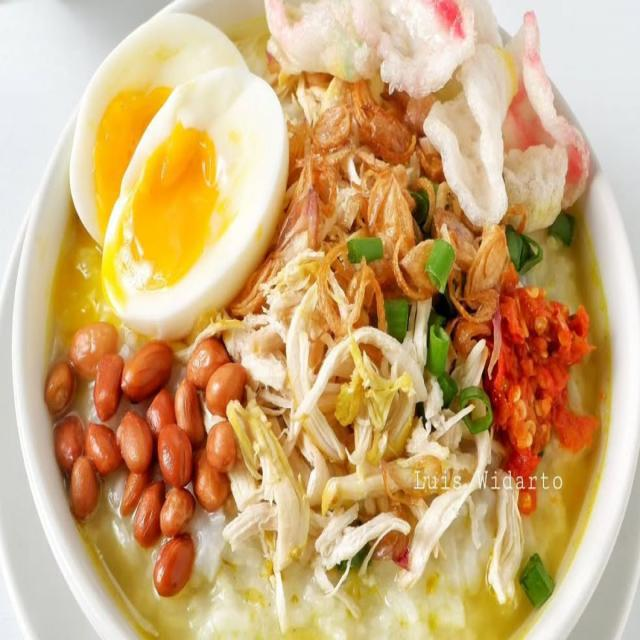bubur ayam: (45, 0, 594, 639)
mangkuk: (0, 0, 640, 640)
telur rebus: (104, 67, 285, 340)
